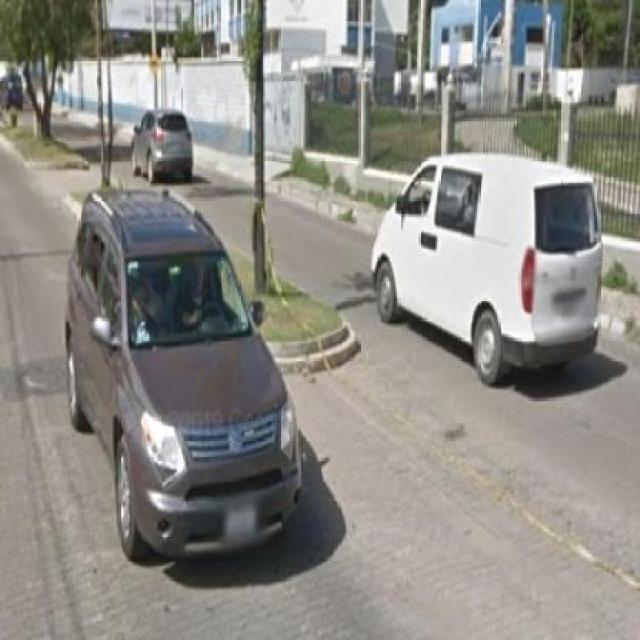car: (67, 186, 307, 563), (372, 148, 606, 384), (131, 104, 194, 178)
